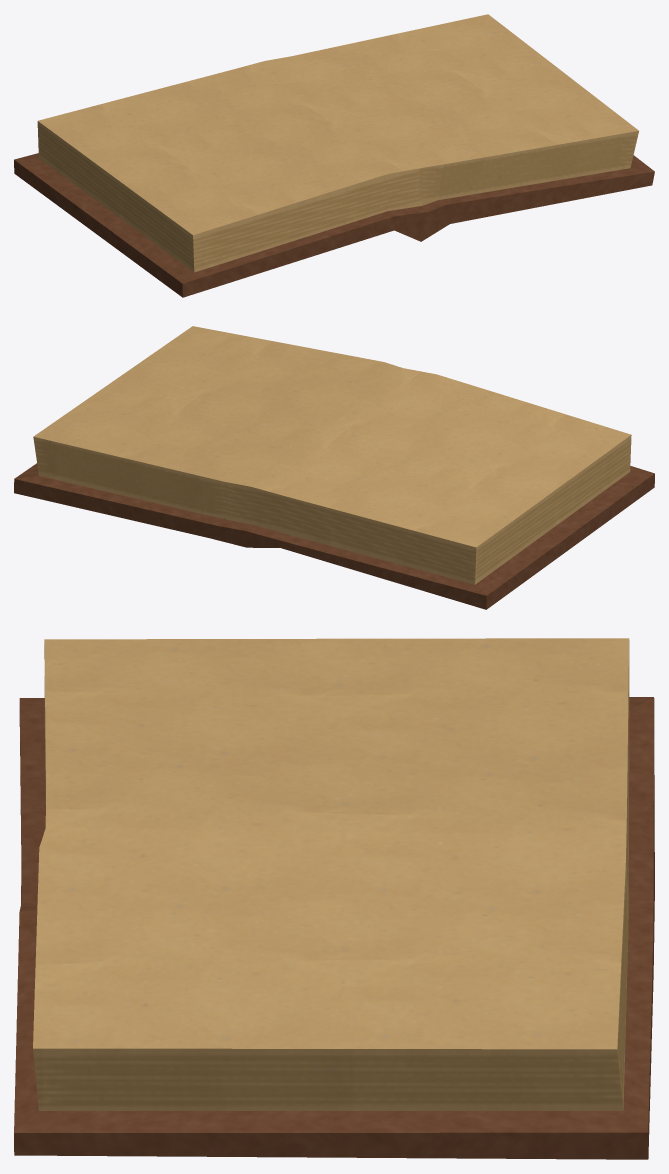
Rendered from SM_Book.fbx.
3 renders of one model, top to bottom at view 1: azimuth 30°, elevation 25°; view 2: azimuth 150°, elevation 25°; view 3: azimuth 270°, elevation 25°, orthographic. The views are drawn at different scales.
Visible parts, largest first — view 1: doggy_assets:pCube3; view 2: doggy_assets:pCube3; view 3: doggy_assets:pCube3.
Part boxes in pixels (x1,y1,x2,y2): doggy_assets:pCube3: [14, 14, 654, 297]; doggy_assets:pCube3: [14, 326, 654, 609]; doggy_assets:pCube3: [14, 638, 654, 1159].
Bounding box in the file's own units: 35.01 × 4.88 × 21.73.
